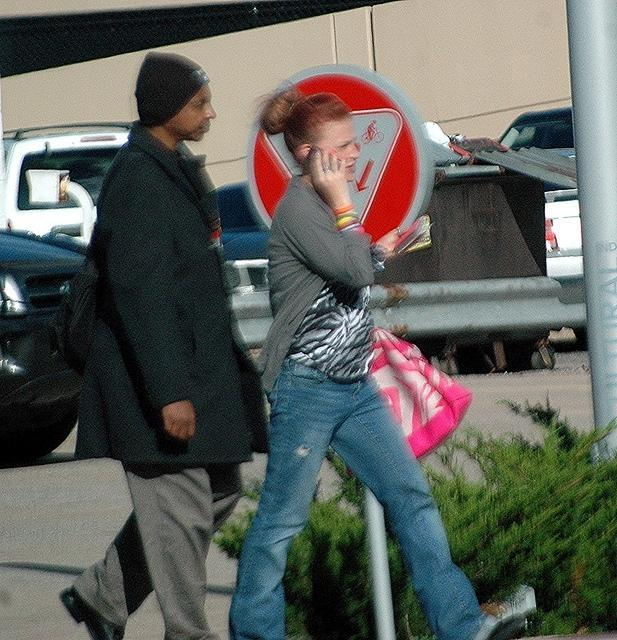car: (0, 227, 81, 468), (2, 126, 131, 236), (214, 181, 272, 259), (224, 258, 272, 343), (497, 108, 574, 152)
